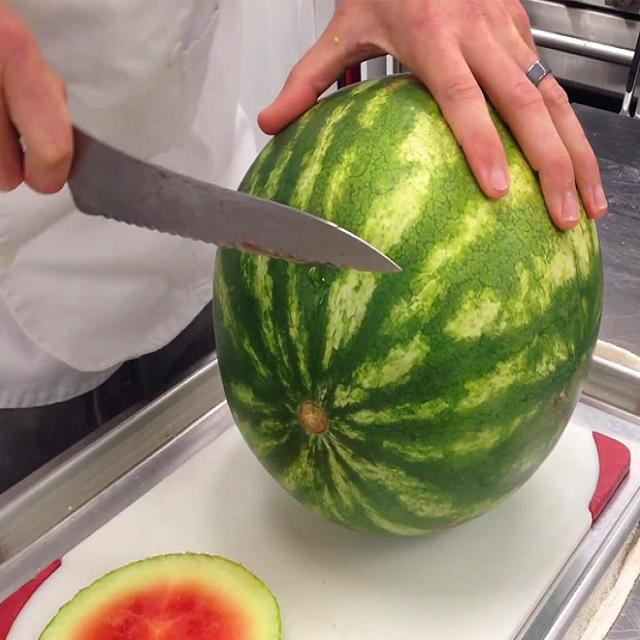Watermelon: (215, 76, 602, 534)
